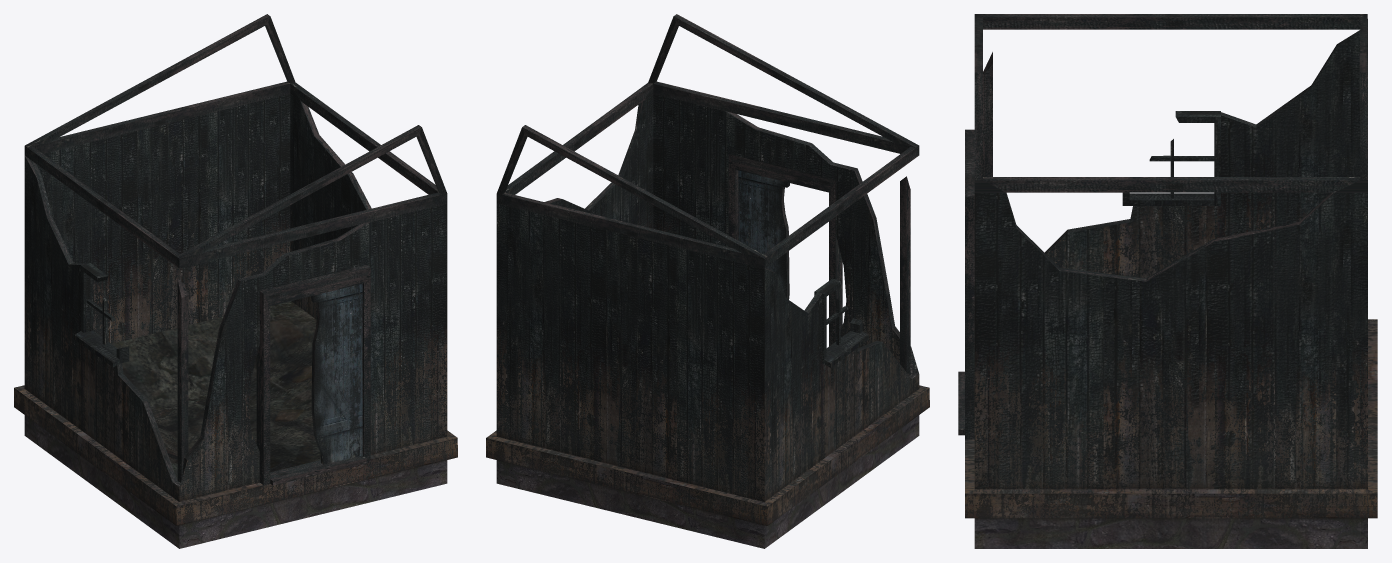
The model's file is burned_out_shed.fbx.
The picture shows the model from 3 angles, left to right: view 1: azimuth 30°, elevation 25°; view 2: azimuth 150°, elevation 25°; view 3: azimuth 270°, elevation 25°; orthographic projection. The views are drawn at different scales.
Parts seen in each view (by area): view 1: burned_out_shed; view 2: burned_out_shed; view 3: burned_out_shed.
Part boxes in pixels (bbox=[...]): burned_out_shed: bbox=[14, 14, 457, 548]; burned_out_shed: bbox=[486, 14, 929, 548]; burned_out_shed: bbox=[958, 14, 1377, 548].
Size of the model in its own units: 449 by 551 by 454.
